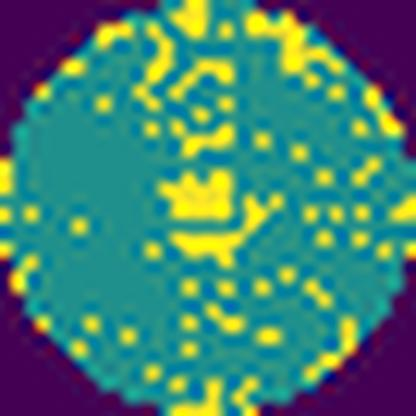Center: (150, 162, 281, 268)
